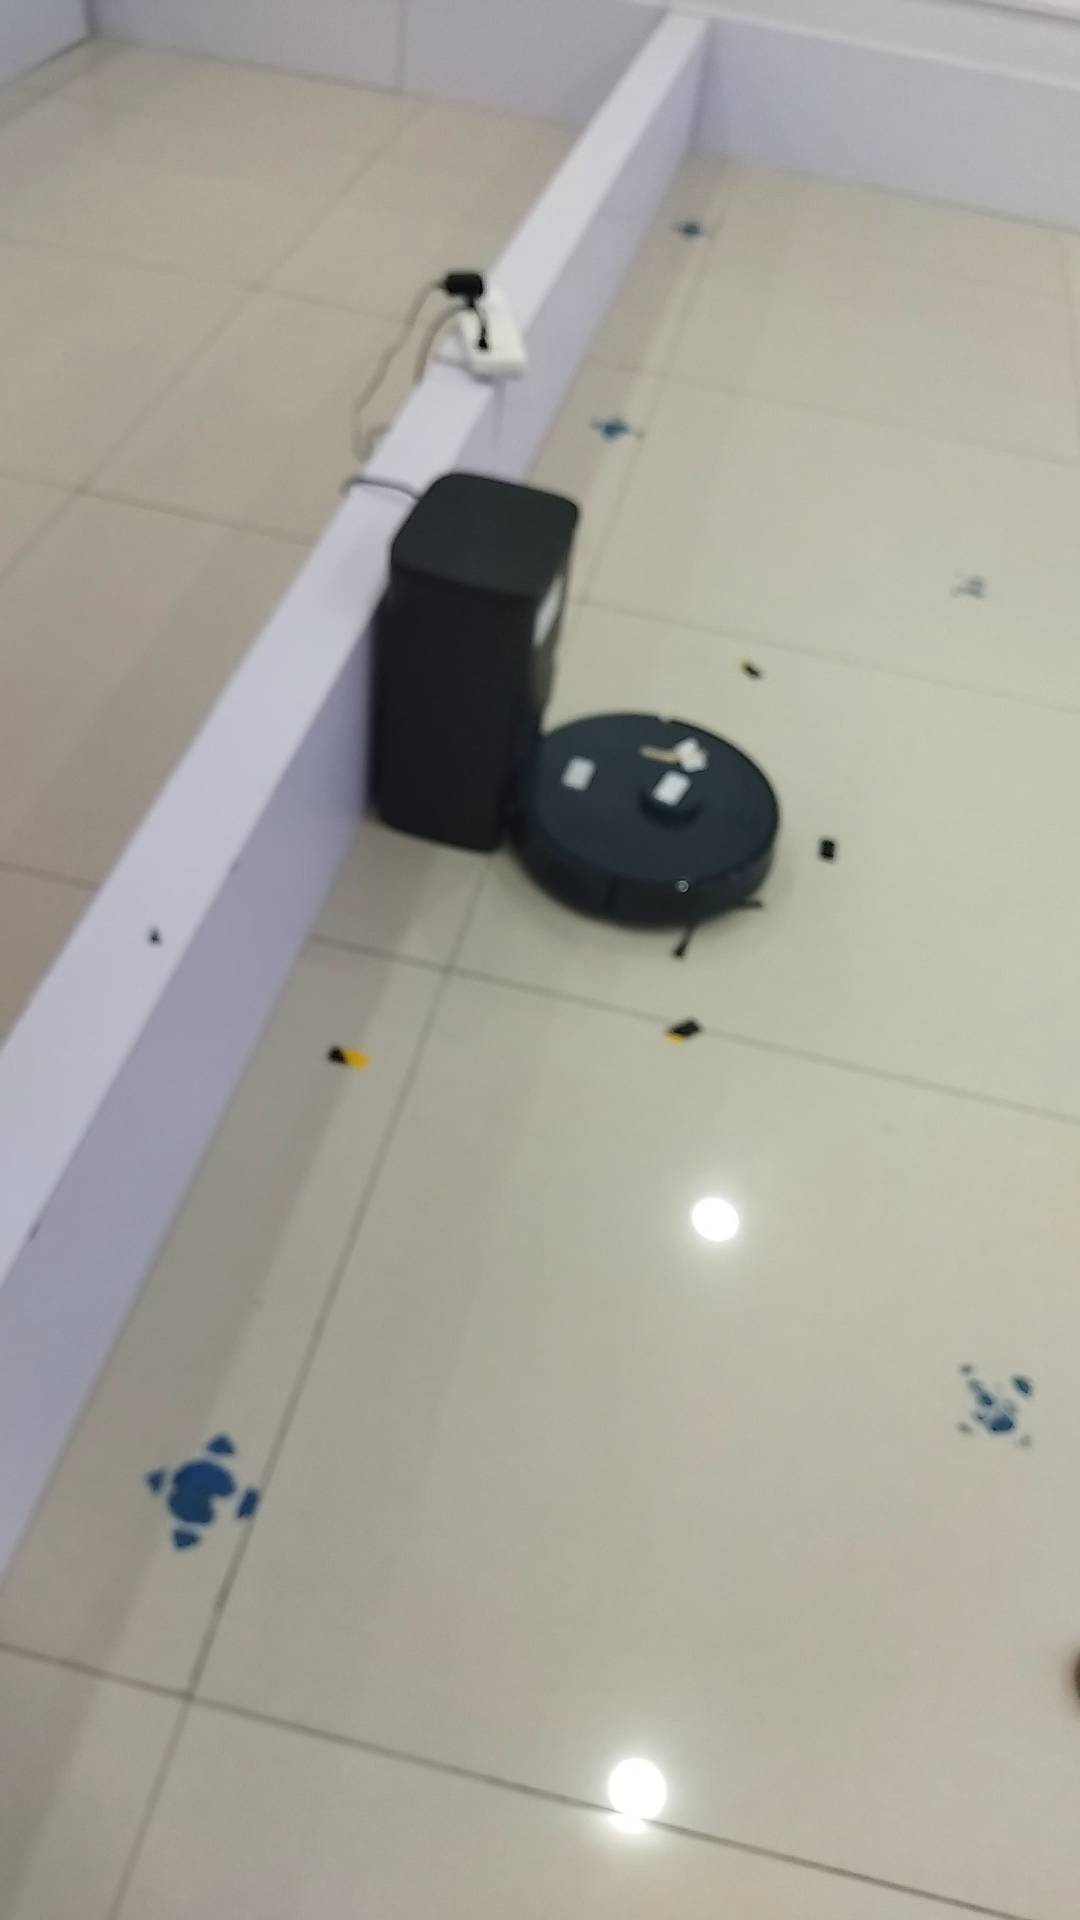dust collecting barrel: (363, 467, 583, 858)
